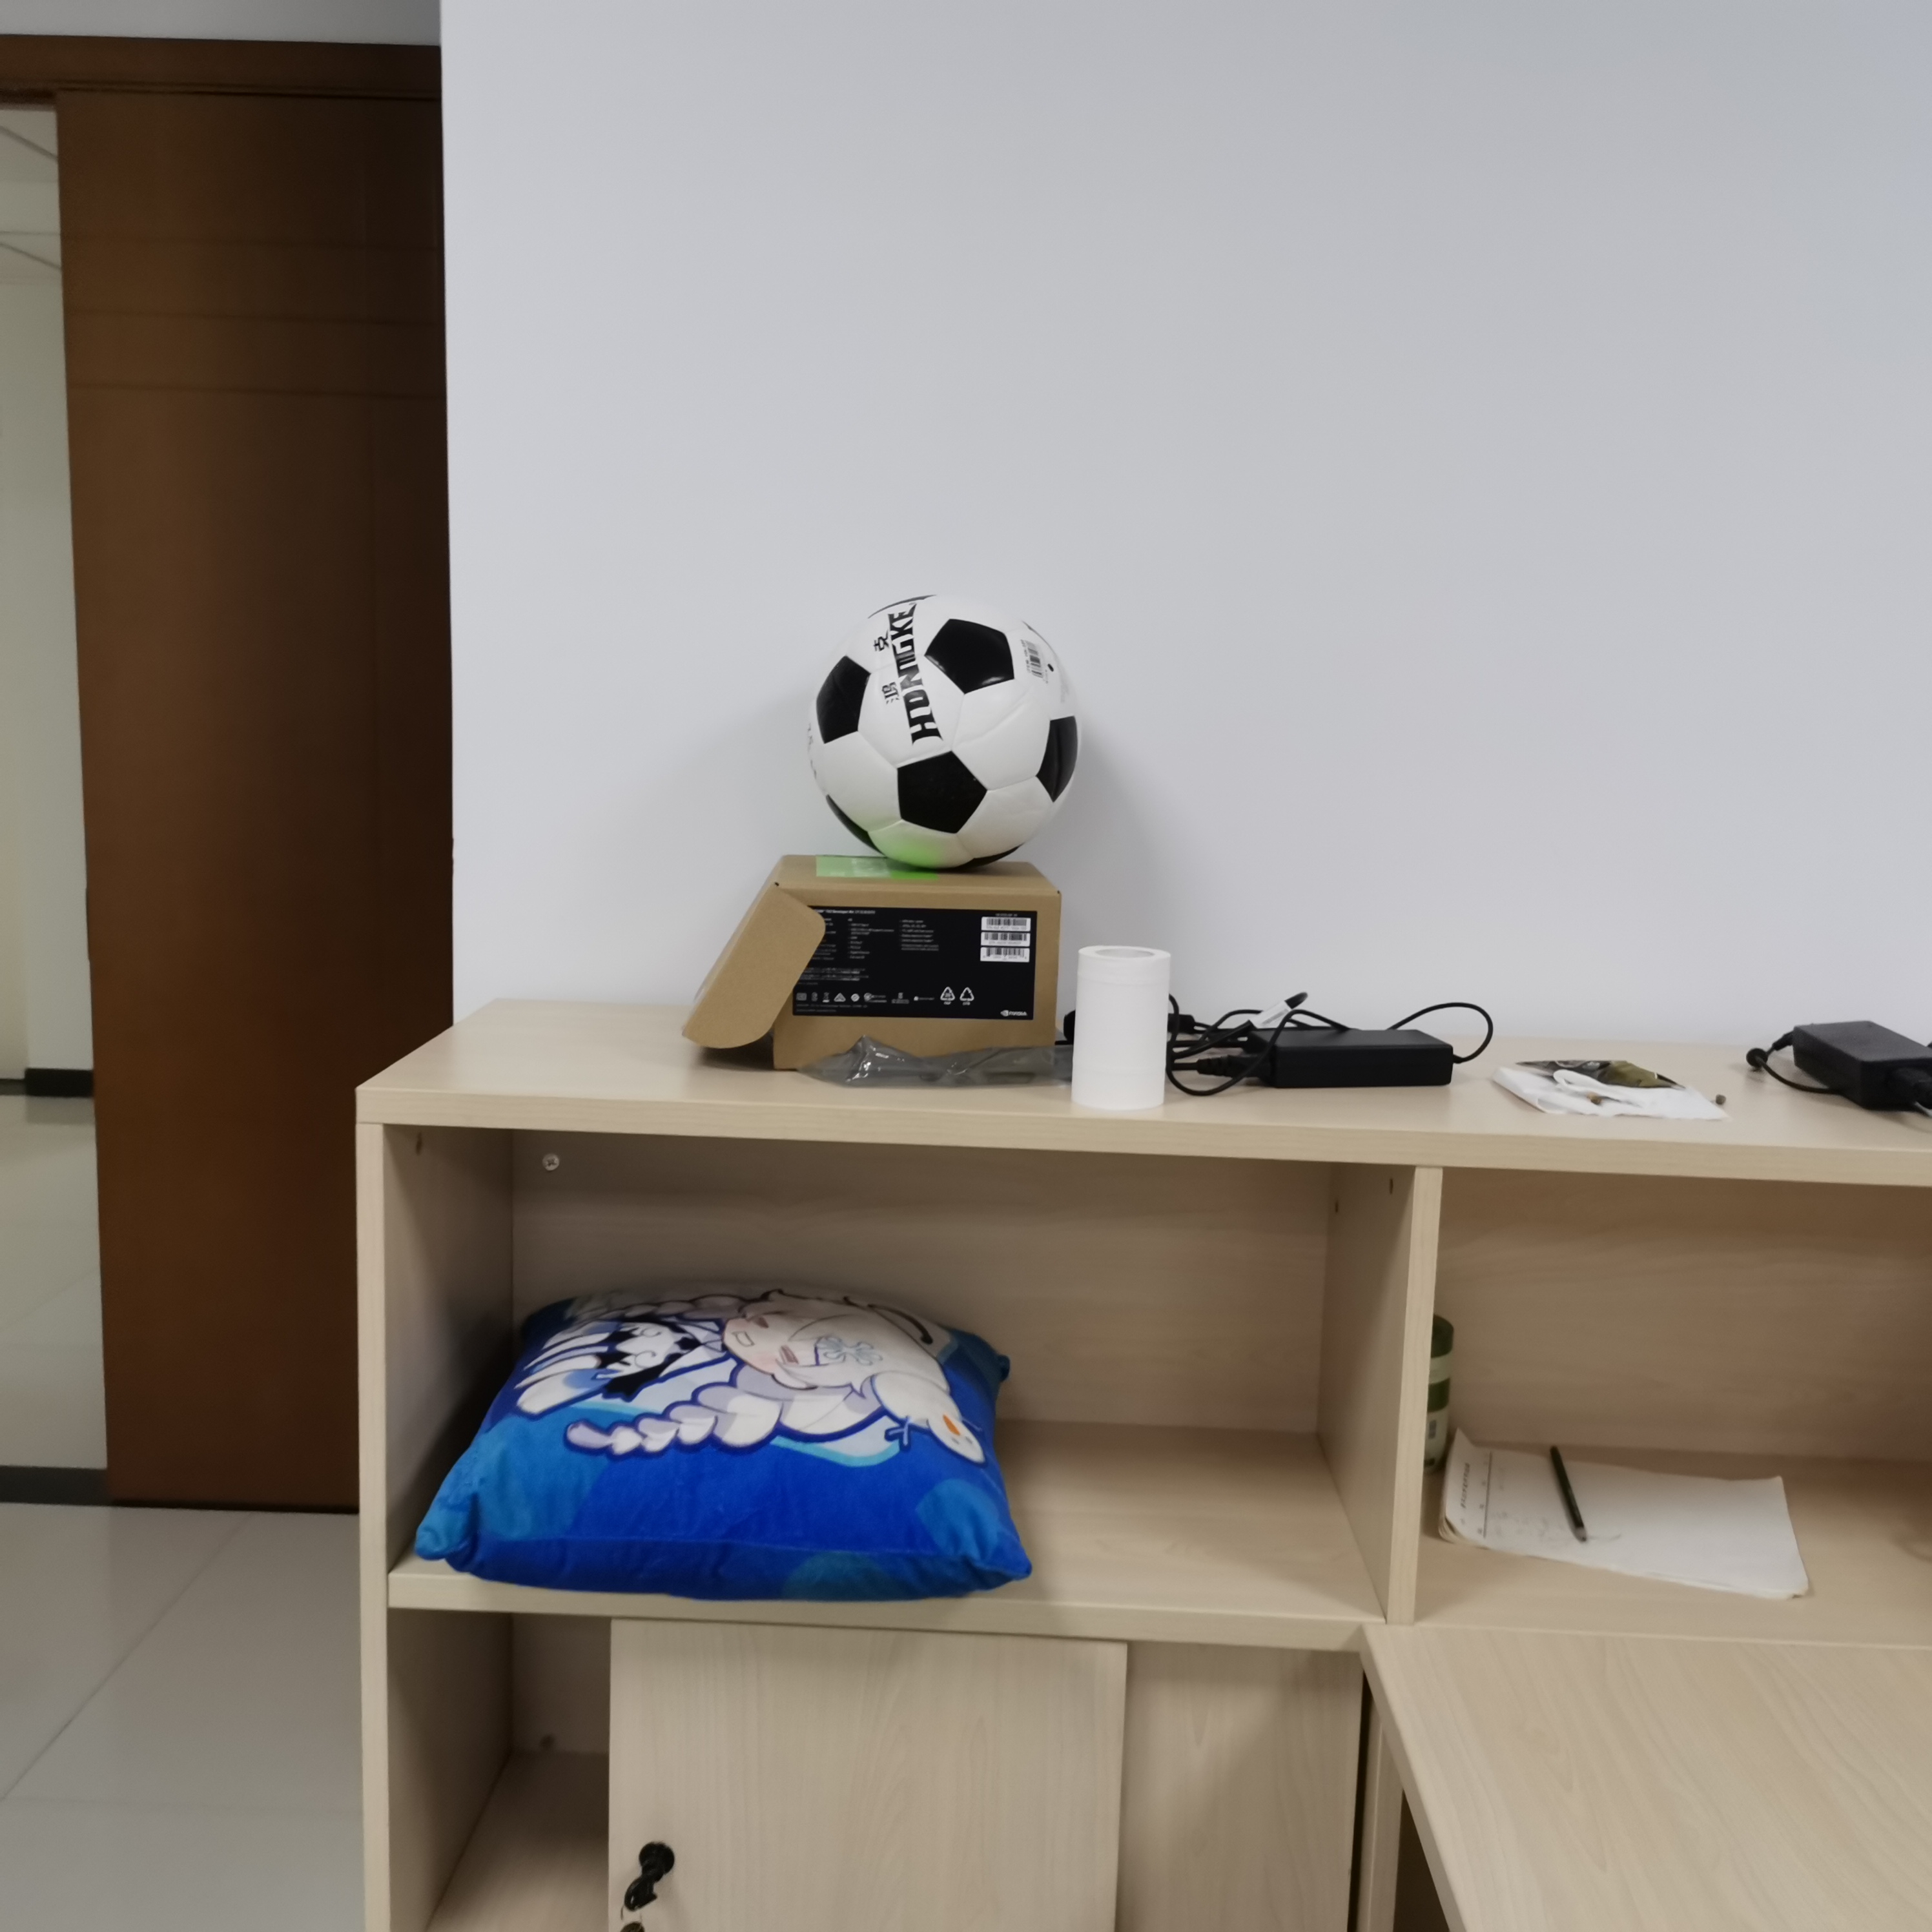football: (809, 591, 1081, 872)
